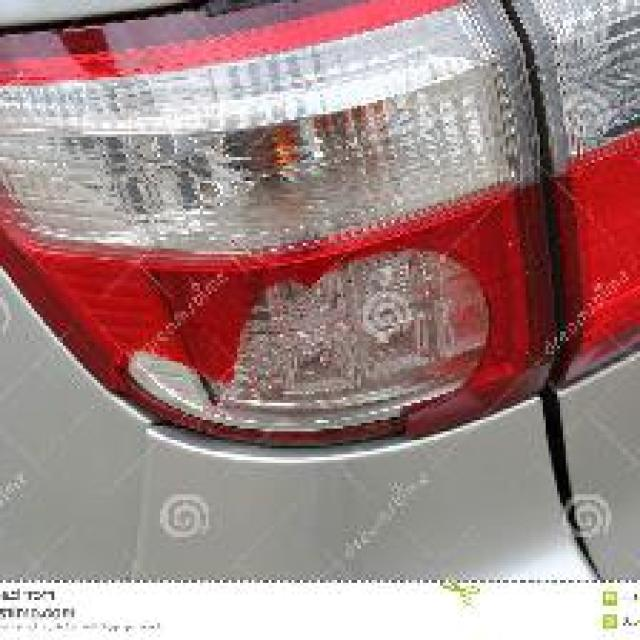tail_lamp_minor: (14, 37, 540, 429)
